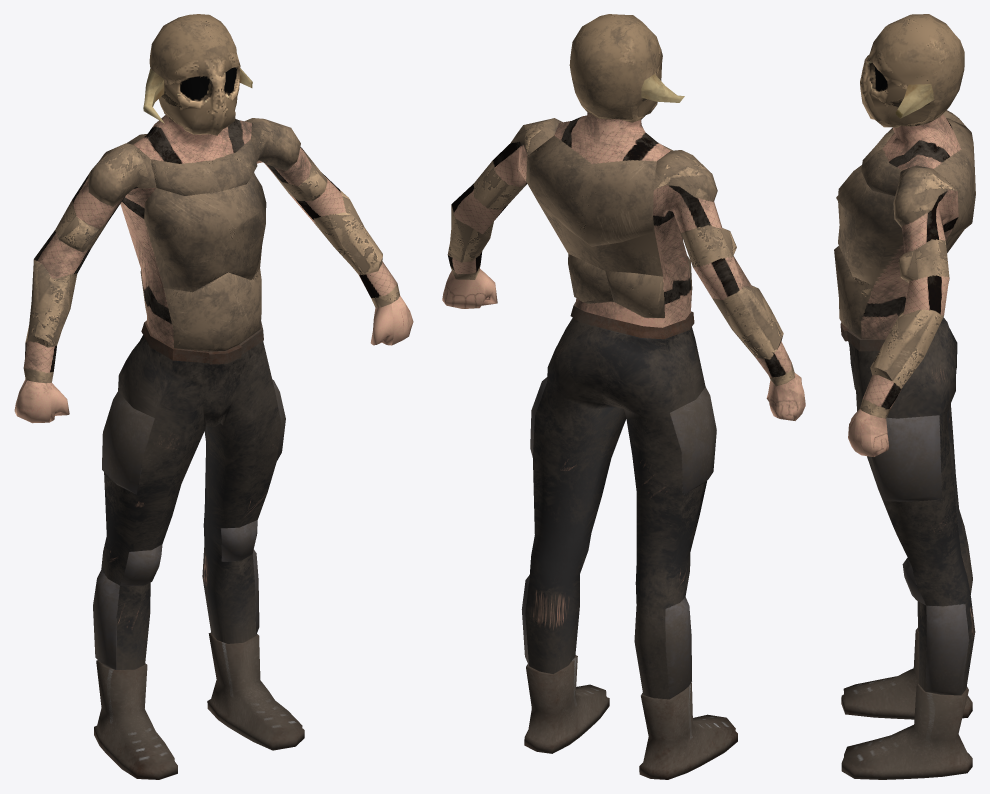
The model's file is Anim_idle_npc1.0027.obj.
3 views of the same model, side by side, from view 1: azimuth 30°, elevation 25°; view 2: azimuth 150°, elevation 25°; view 3: azimuth 270°, elevation 25° (orthographic).
Parts seen in each view (by area): view 1: NPC2; view 2: NPC2; view 3: NPC2.
Boxes of the visible parts, box(x1,y1,x2,y2) form: NPC2: box(14, 14, 413, 779); NPC2: box(442, 14, 805, 779); NPC2: box(834, 14, 975, 779).
Bounding box in the file's own units: 5.25 × 9.68 × 1.72.
